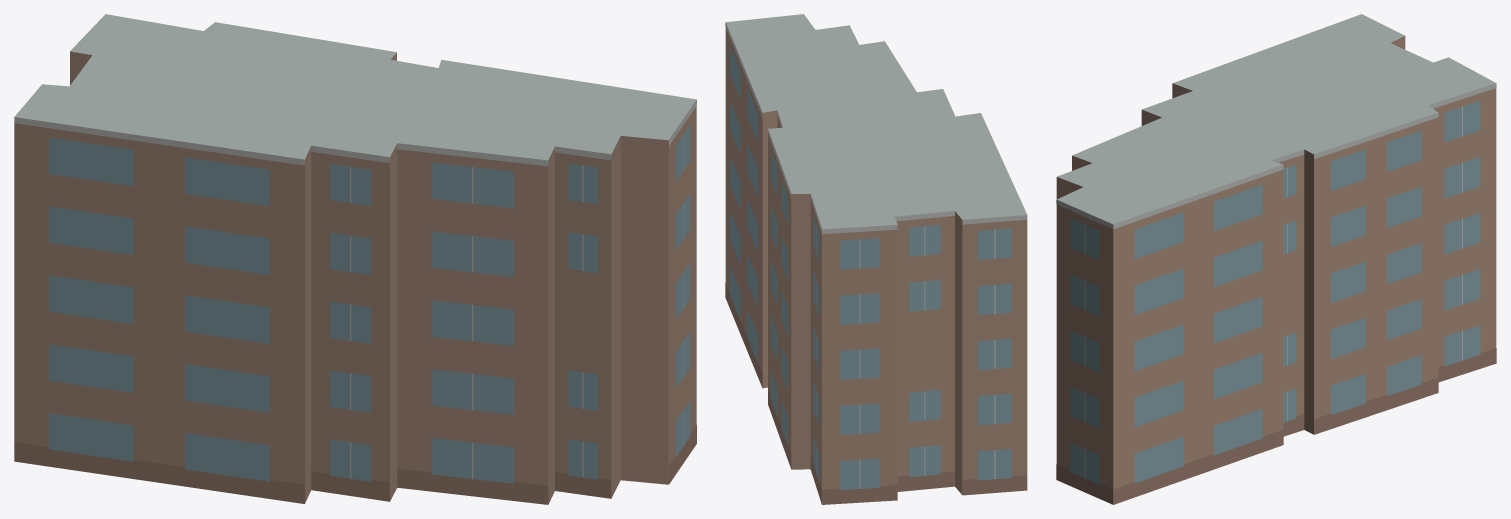
Rendered from survey-upis-32669868.glb.
3 views of the same model, side by side, from view 1: azimuth 30°, elevation 25°; view 2: azimuth 150°, elevation 25°; view 3: azimuth 270°, elevation 25° (orthographic). The views are drawn at different scales.
Visible parts, largest first — view 1: survey-upis-32669868.tmp; view 2: survey-upis-32669868.tmp; view 3: survey-upis-32669868.tmp.
Part boxes in pixels (left/top/right/bottom): survey-upis-32669868.tmp: left=14, top=14, right=696, bottom=504; survey-upis-32669868.tmp: left=725, top=14, right=1027, bottom=504; survey-upis-32669868.tmp: left=1056, top=14, right=1496, bottom=504.
Bounding box in the file's own units: 22.47 × 13.95 × 19.84.
